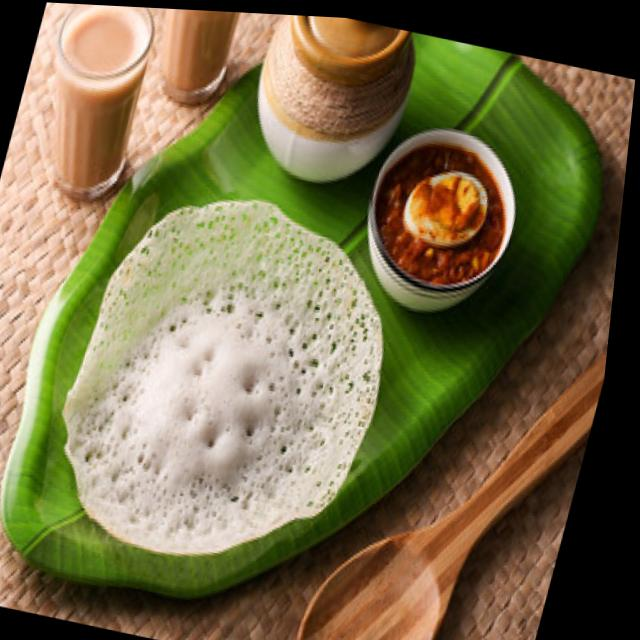AAPAM: (62, 203, 381, 566)
EGG: (377, 151, 504, 282)
